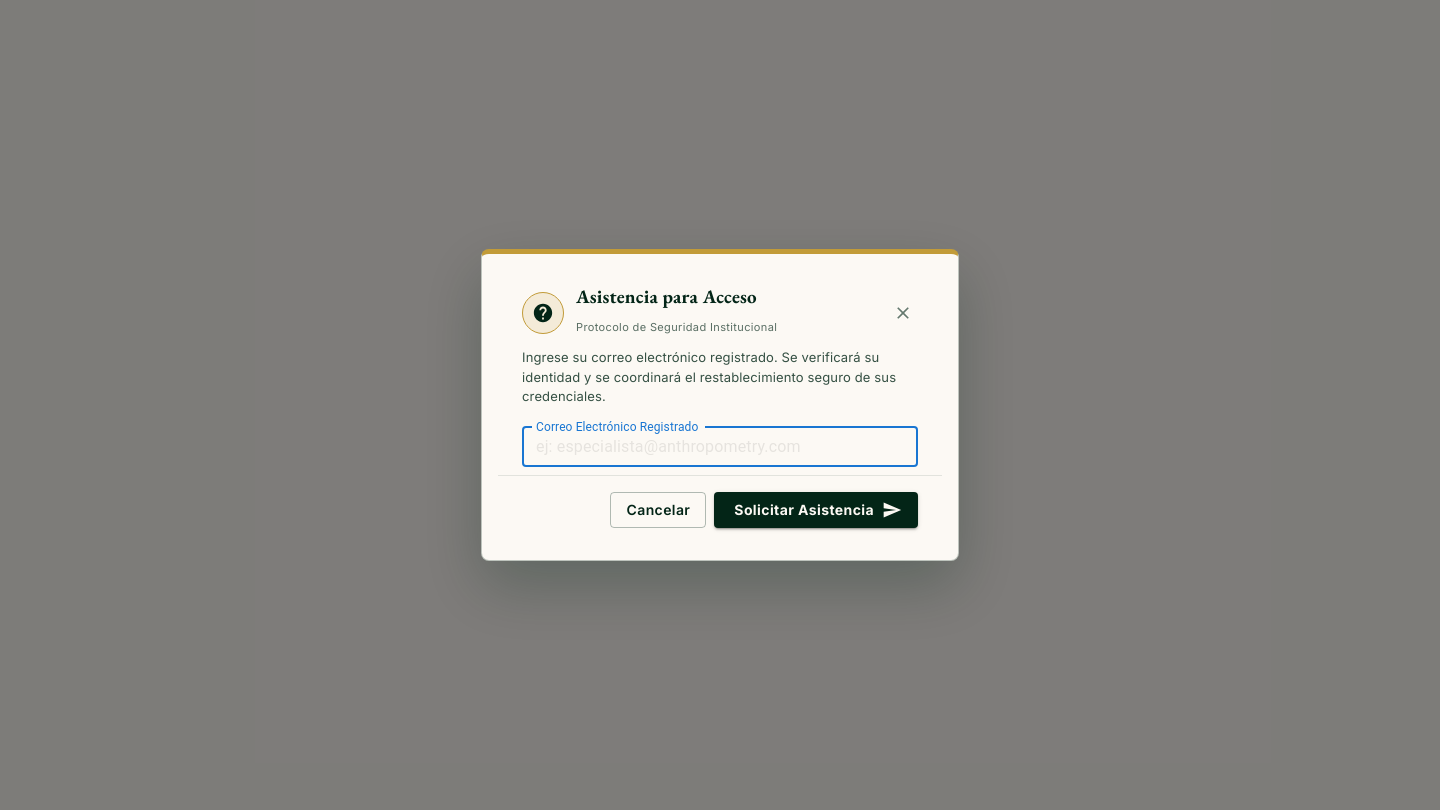
Test: ForgotPasswordModal Component › submits email and displays registration confirmation
Type "carolina.gomez@anthropometry.com" into the field with placeholder "ej: especialista@anthropometry.com".
click(720, 447); type("carolina.gomez@anthropometry.com")  # box [522, 427, 918, 467]
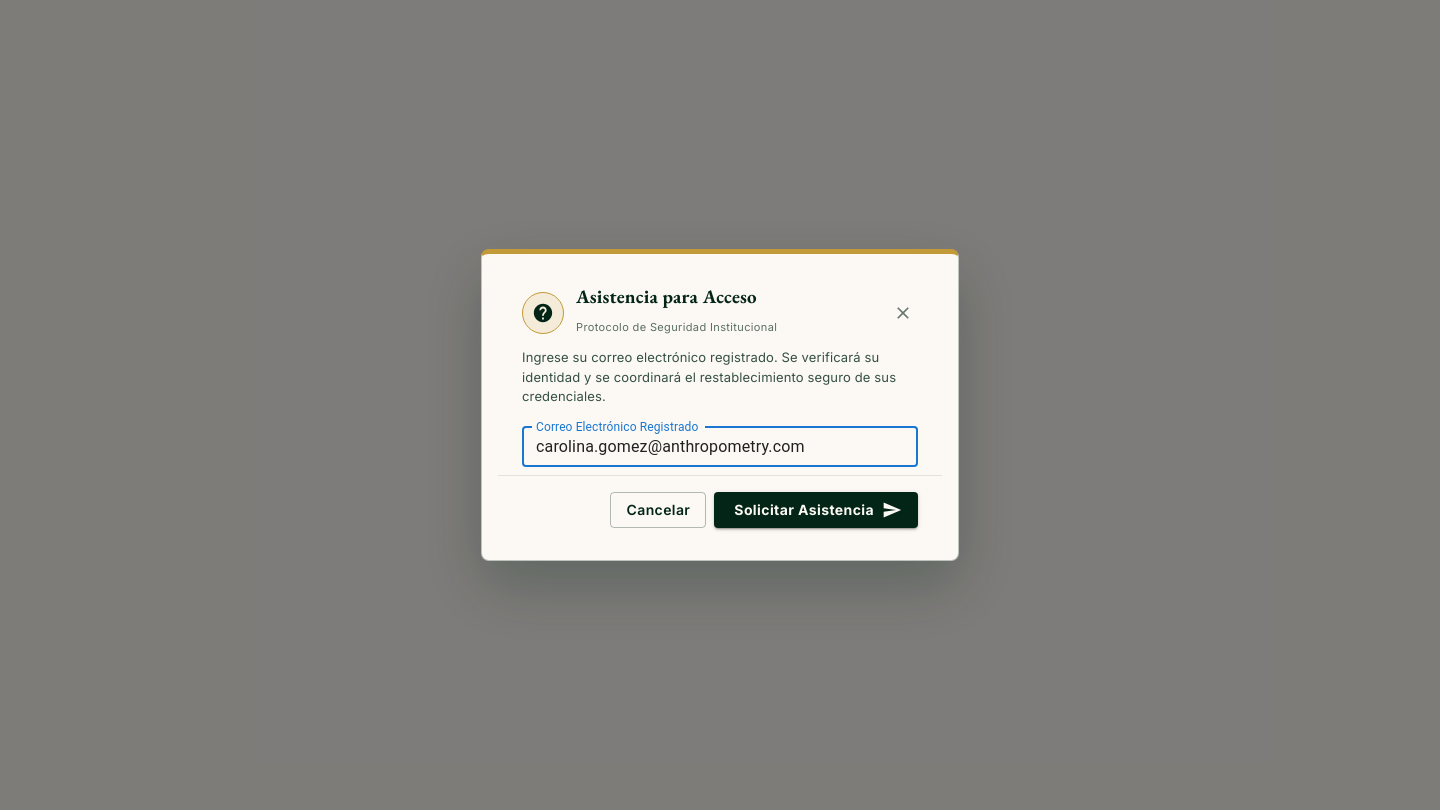
Click the button "Solicitar Asistencia".
click(816, 510)  # box [714, 492, 918, 528]
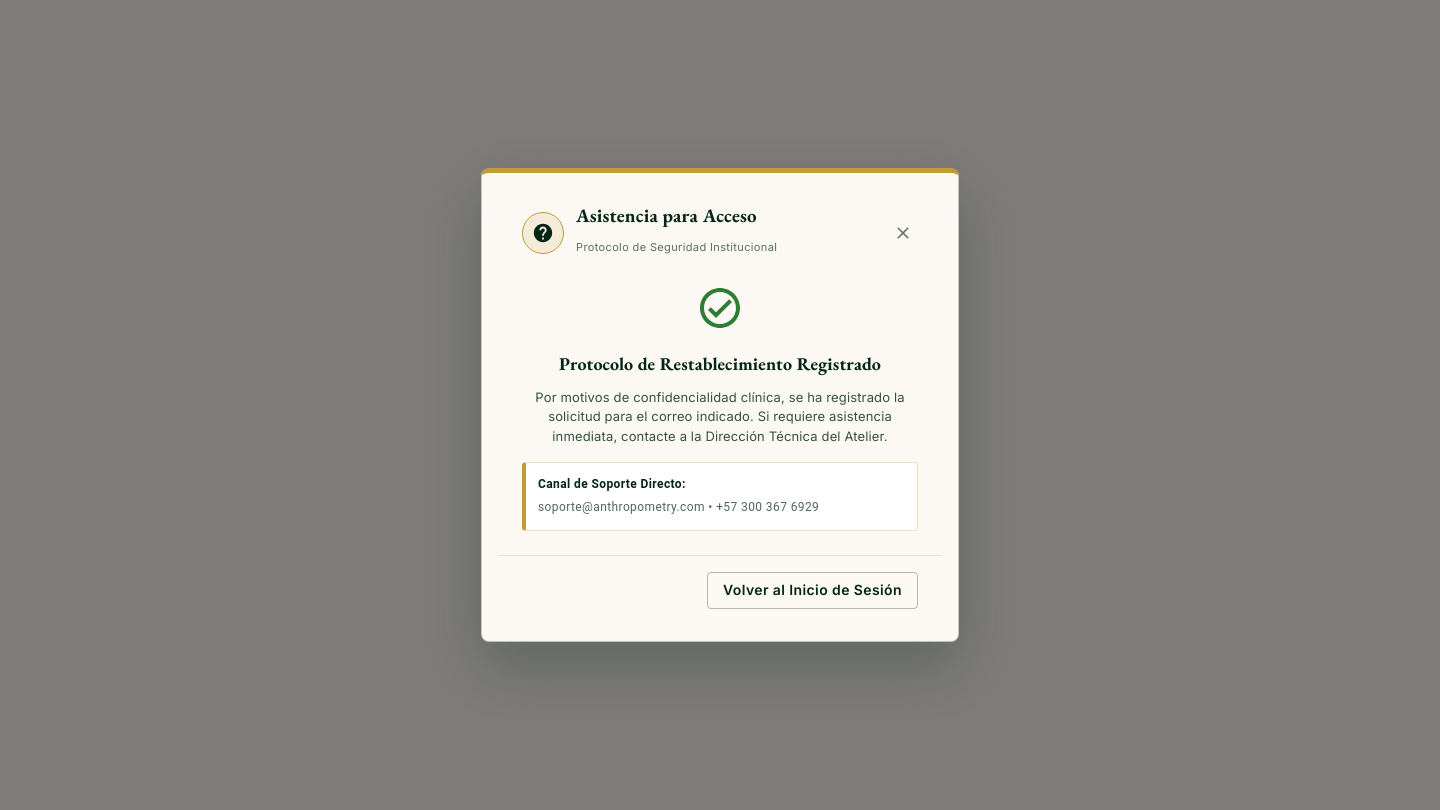
Expected: the heading "Protocolo de Restablecimiento Registrado" is shown, [559, 352, 881, 375]
Expected: the text "Canal de Soporte Directo:" is shown, [538, 477, 686, 491]
